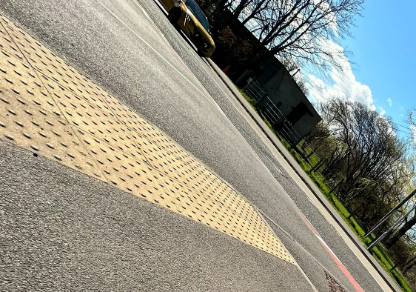car: (162, 0, 228, 60)
tree: (239, 0, 366, 93), (323, 90, 402, 205)
